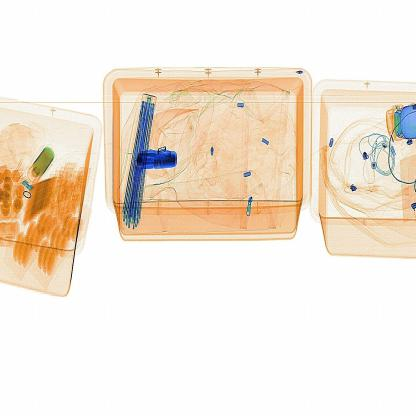scissors: (136, 146, 186, 180)
